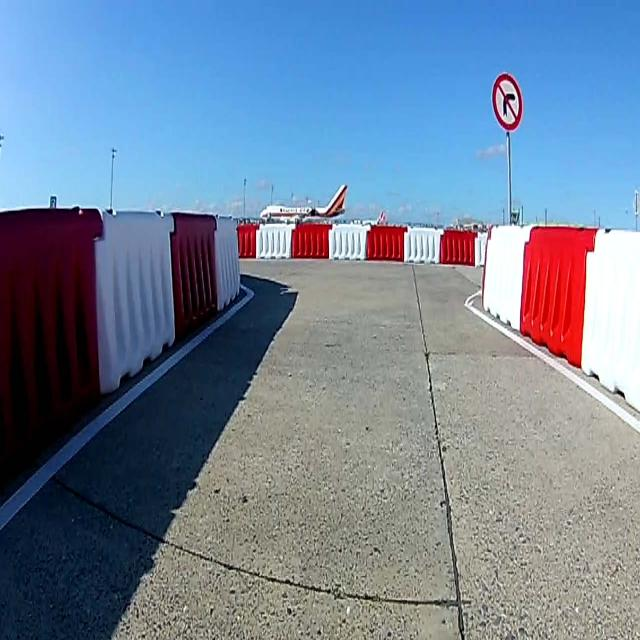sagadonulmez: (493, 75, 522, 132)
